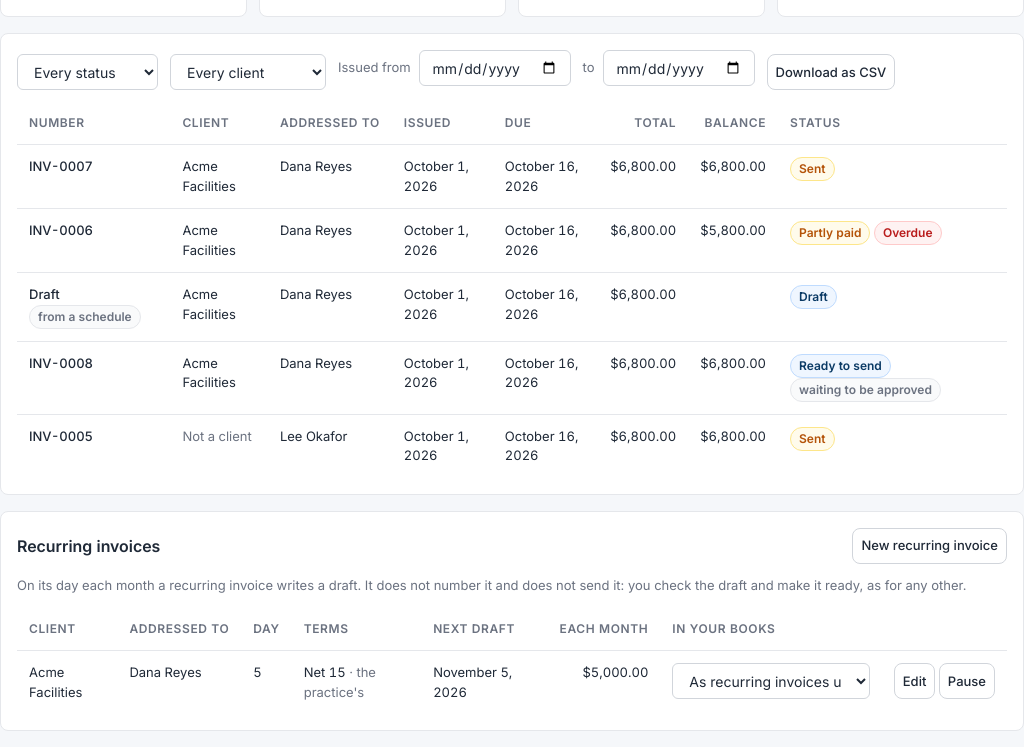
it: editing a recurring invoice › shows the server's refusal and keeps the form open
This screenshot has width=1024, height=747.
(page scrolled)
Click the button with aria-label "Edit the recurring invoice for Acme Facilities".
click(915, 681)  # box [894,663,935,699]
(page scrolled)
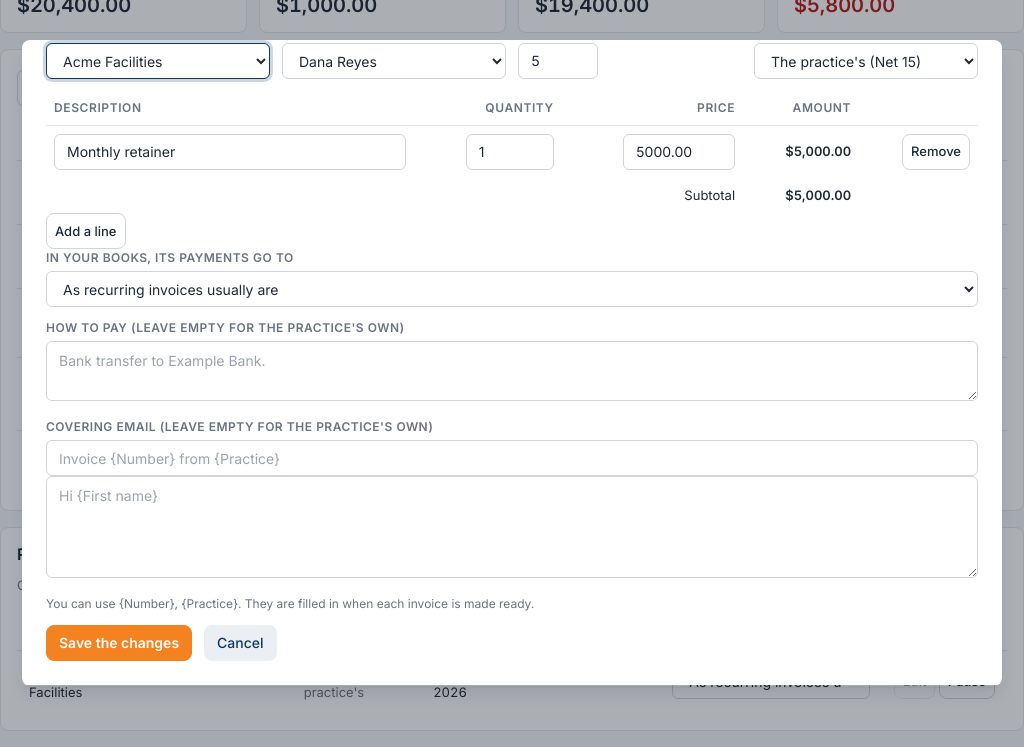
Click the button "Save the changes".
click(119, 643)  # box [46,625,192,661]
(page scrolled)
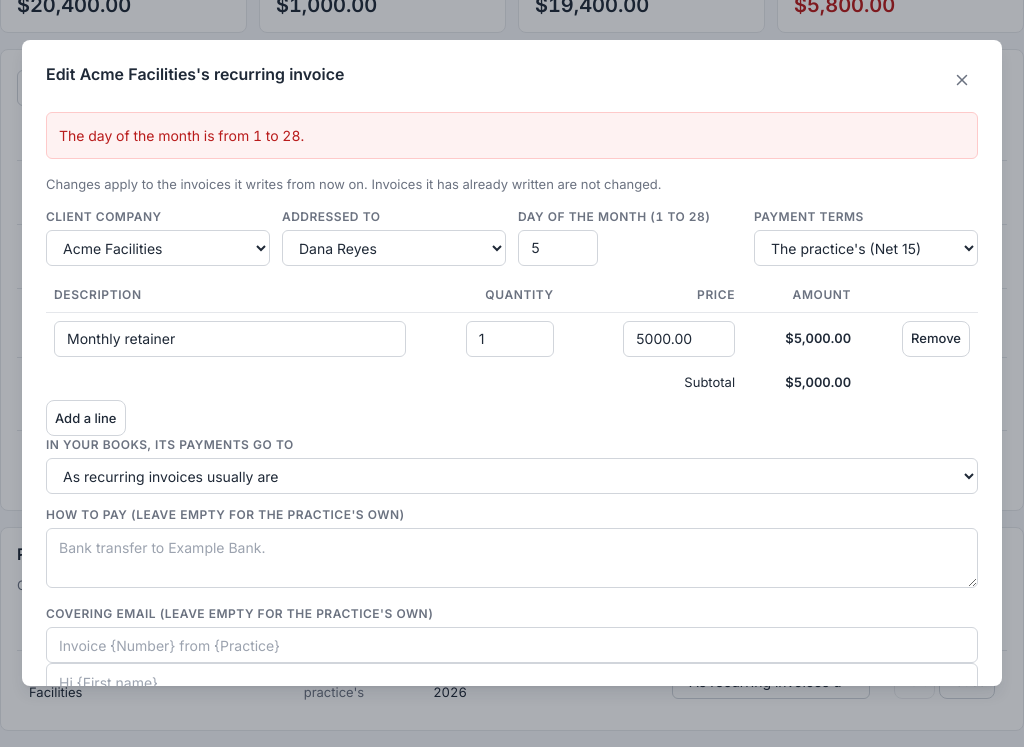
Expected: the text "The day of the month is from 1 to 28." is shown, [59,127,304,144]
